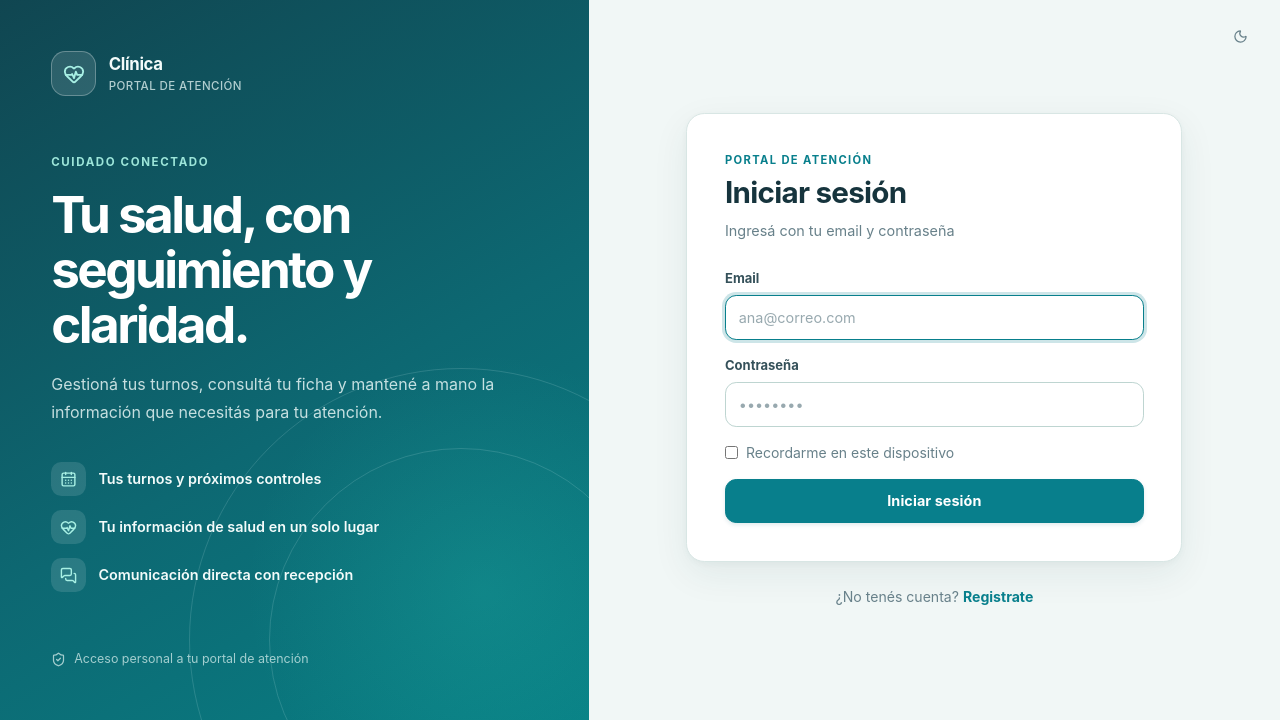
Login › el error de un campo desaparece apenas el usuario lo corrige
The width and height of the screenshot is (1280, 720).
Click the button "Iniciar sesión": (934, 501) [725,479,1144,523]
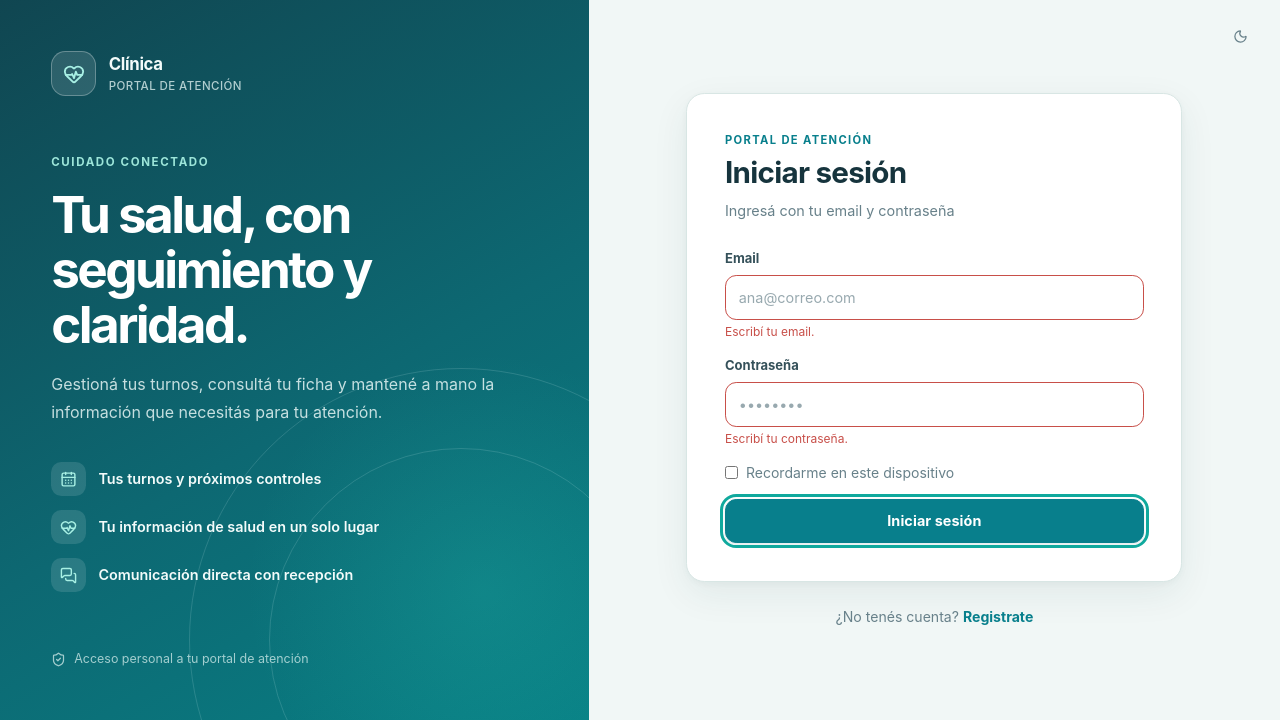
Expected: the text "Escribí tu email." is shown, [725,324,814,338]
In the field labelled "Email": (934, 297) [725,275,1144,320], type "a"
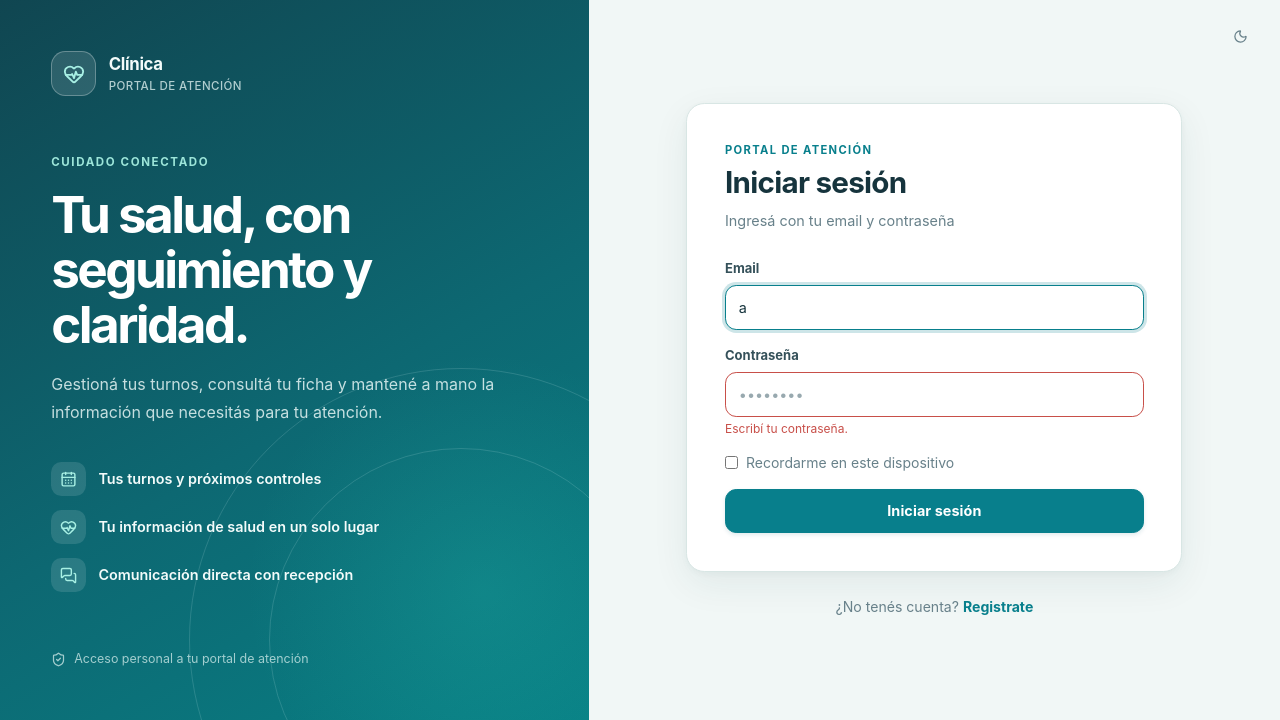
Expected: the text "Escribí tu email." is gone
